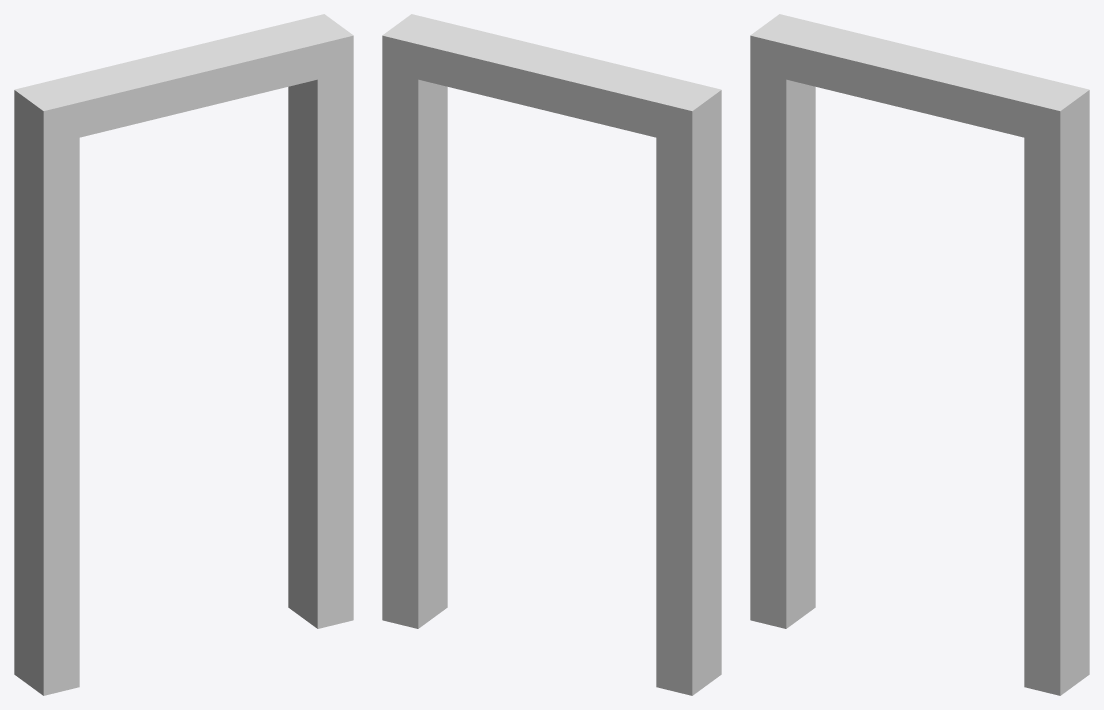
Rendered from door_014.glb.
3 views of the same model, side by side, from view 1: azimuth 30°, elevation 25°; view 2: azimuth 150°, elevation 25°; view 3: azimuth 330°, elevation 25° (orthographic).
Parts seen in each view (by area): view 1: door_014; view 2: door_014; view 3: door_014.
Boxes of the visible parts, x1,y1,x2,y2 form: door_014: (14,14,353,695); door_014: (382,14,721,695); door_014: (750,14,1089,695).
Size of the model in its own units: 1.34 by 2.41 by 0.2204.
Materials: 1 (1 with a texture image).
